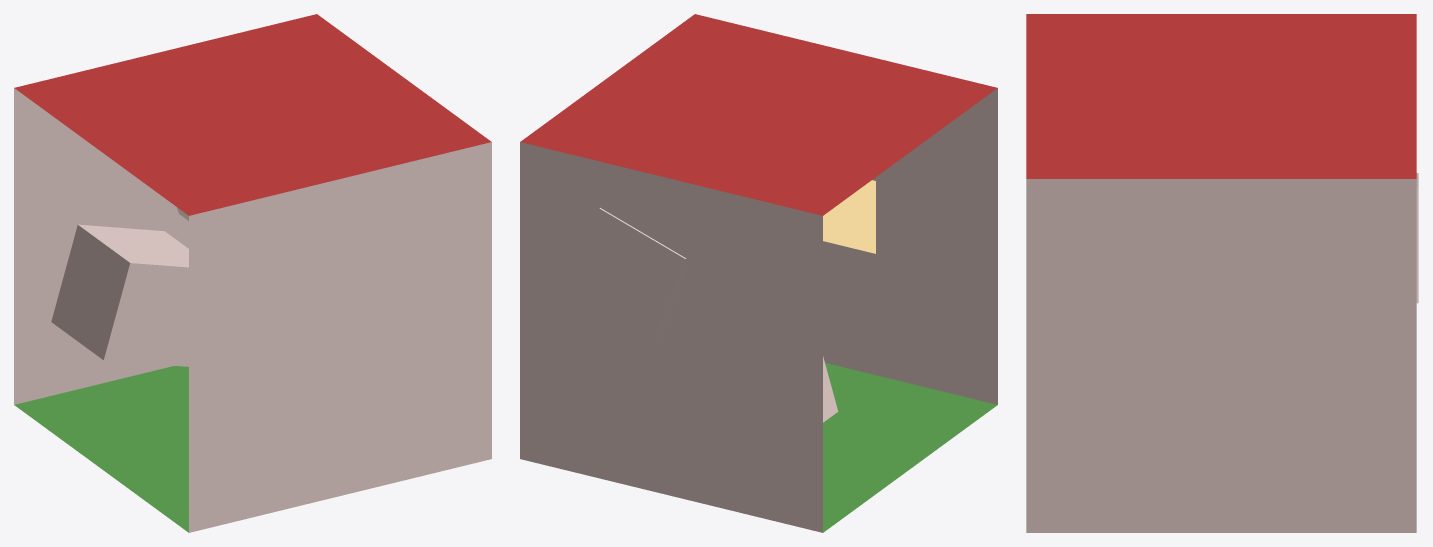
Rendered from cornell1(4).glb.
3 renders of one model, left to right at view 1: azimuth 30°, elevation 25°; view 2: azimuth 150°, elevation 25°; view 3: azimuth 270°, elevation 25°, orthographic. The views are drawn at different scales.
Parts seen in each view (by area): view 1: cornell; view 2: cornell; view 3: cornell.
Part boxes in pixels (<box>): cornell: <box>14,14,491,532</box>; cornell: <box>520,14,997,532</box>; cornell: <box>1026,14,1418,532</box>.
Bounding box in the file's own units: 2 × 2 × 2.01.
